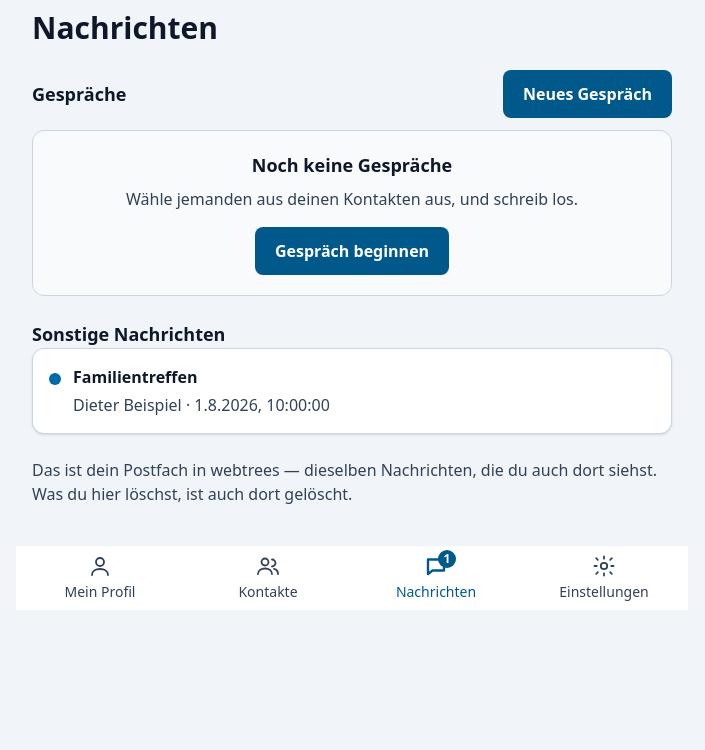
Test: the inbox › deletes a message and says the inbox is empty
Click the button "Familientreffen Dieter Beispiel · 1.8.2026, 10:00:00" at (135, 377), box top-left (49, 365), bottom-right (655, 417)
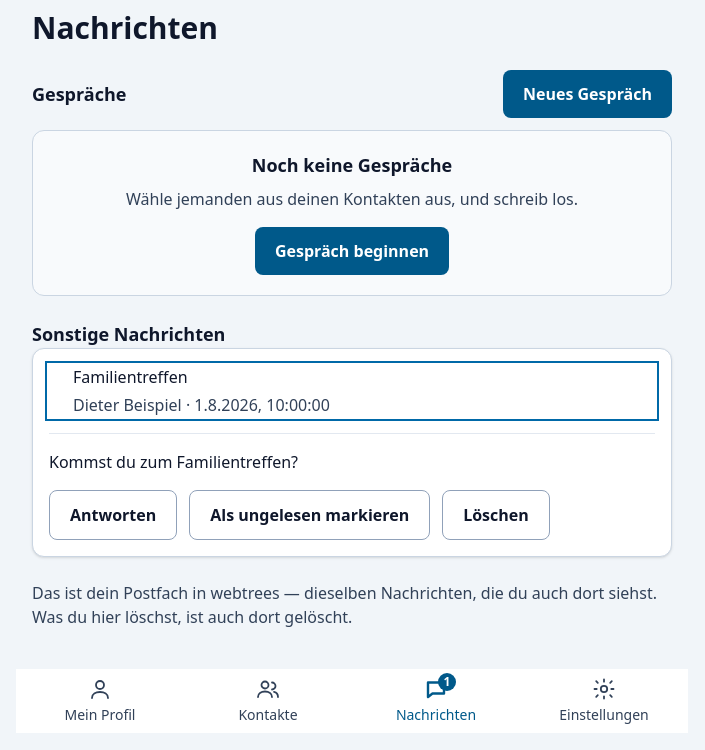
Click the button "Löschen" at (496, 515), box top-left (442, 490), bottom-right (550, 540)
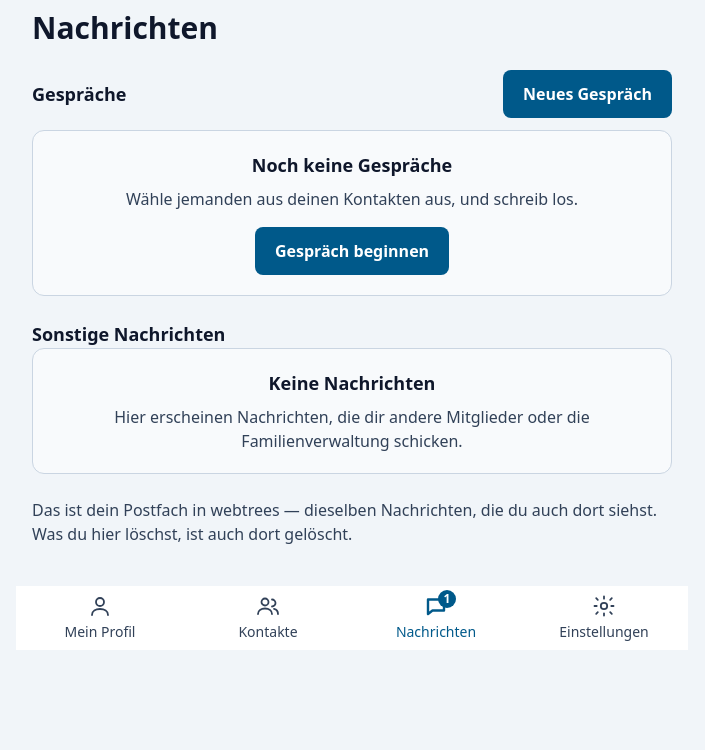
Result: the text "Keine Nachrichten" is shown at top-left (269, 371), bottom-right (435, 395)
